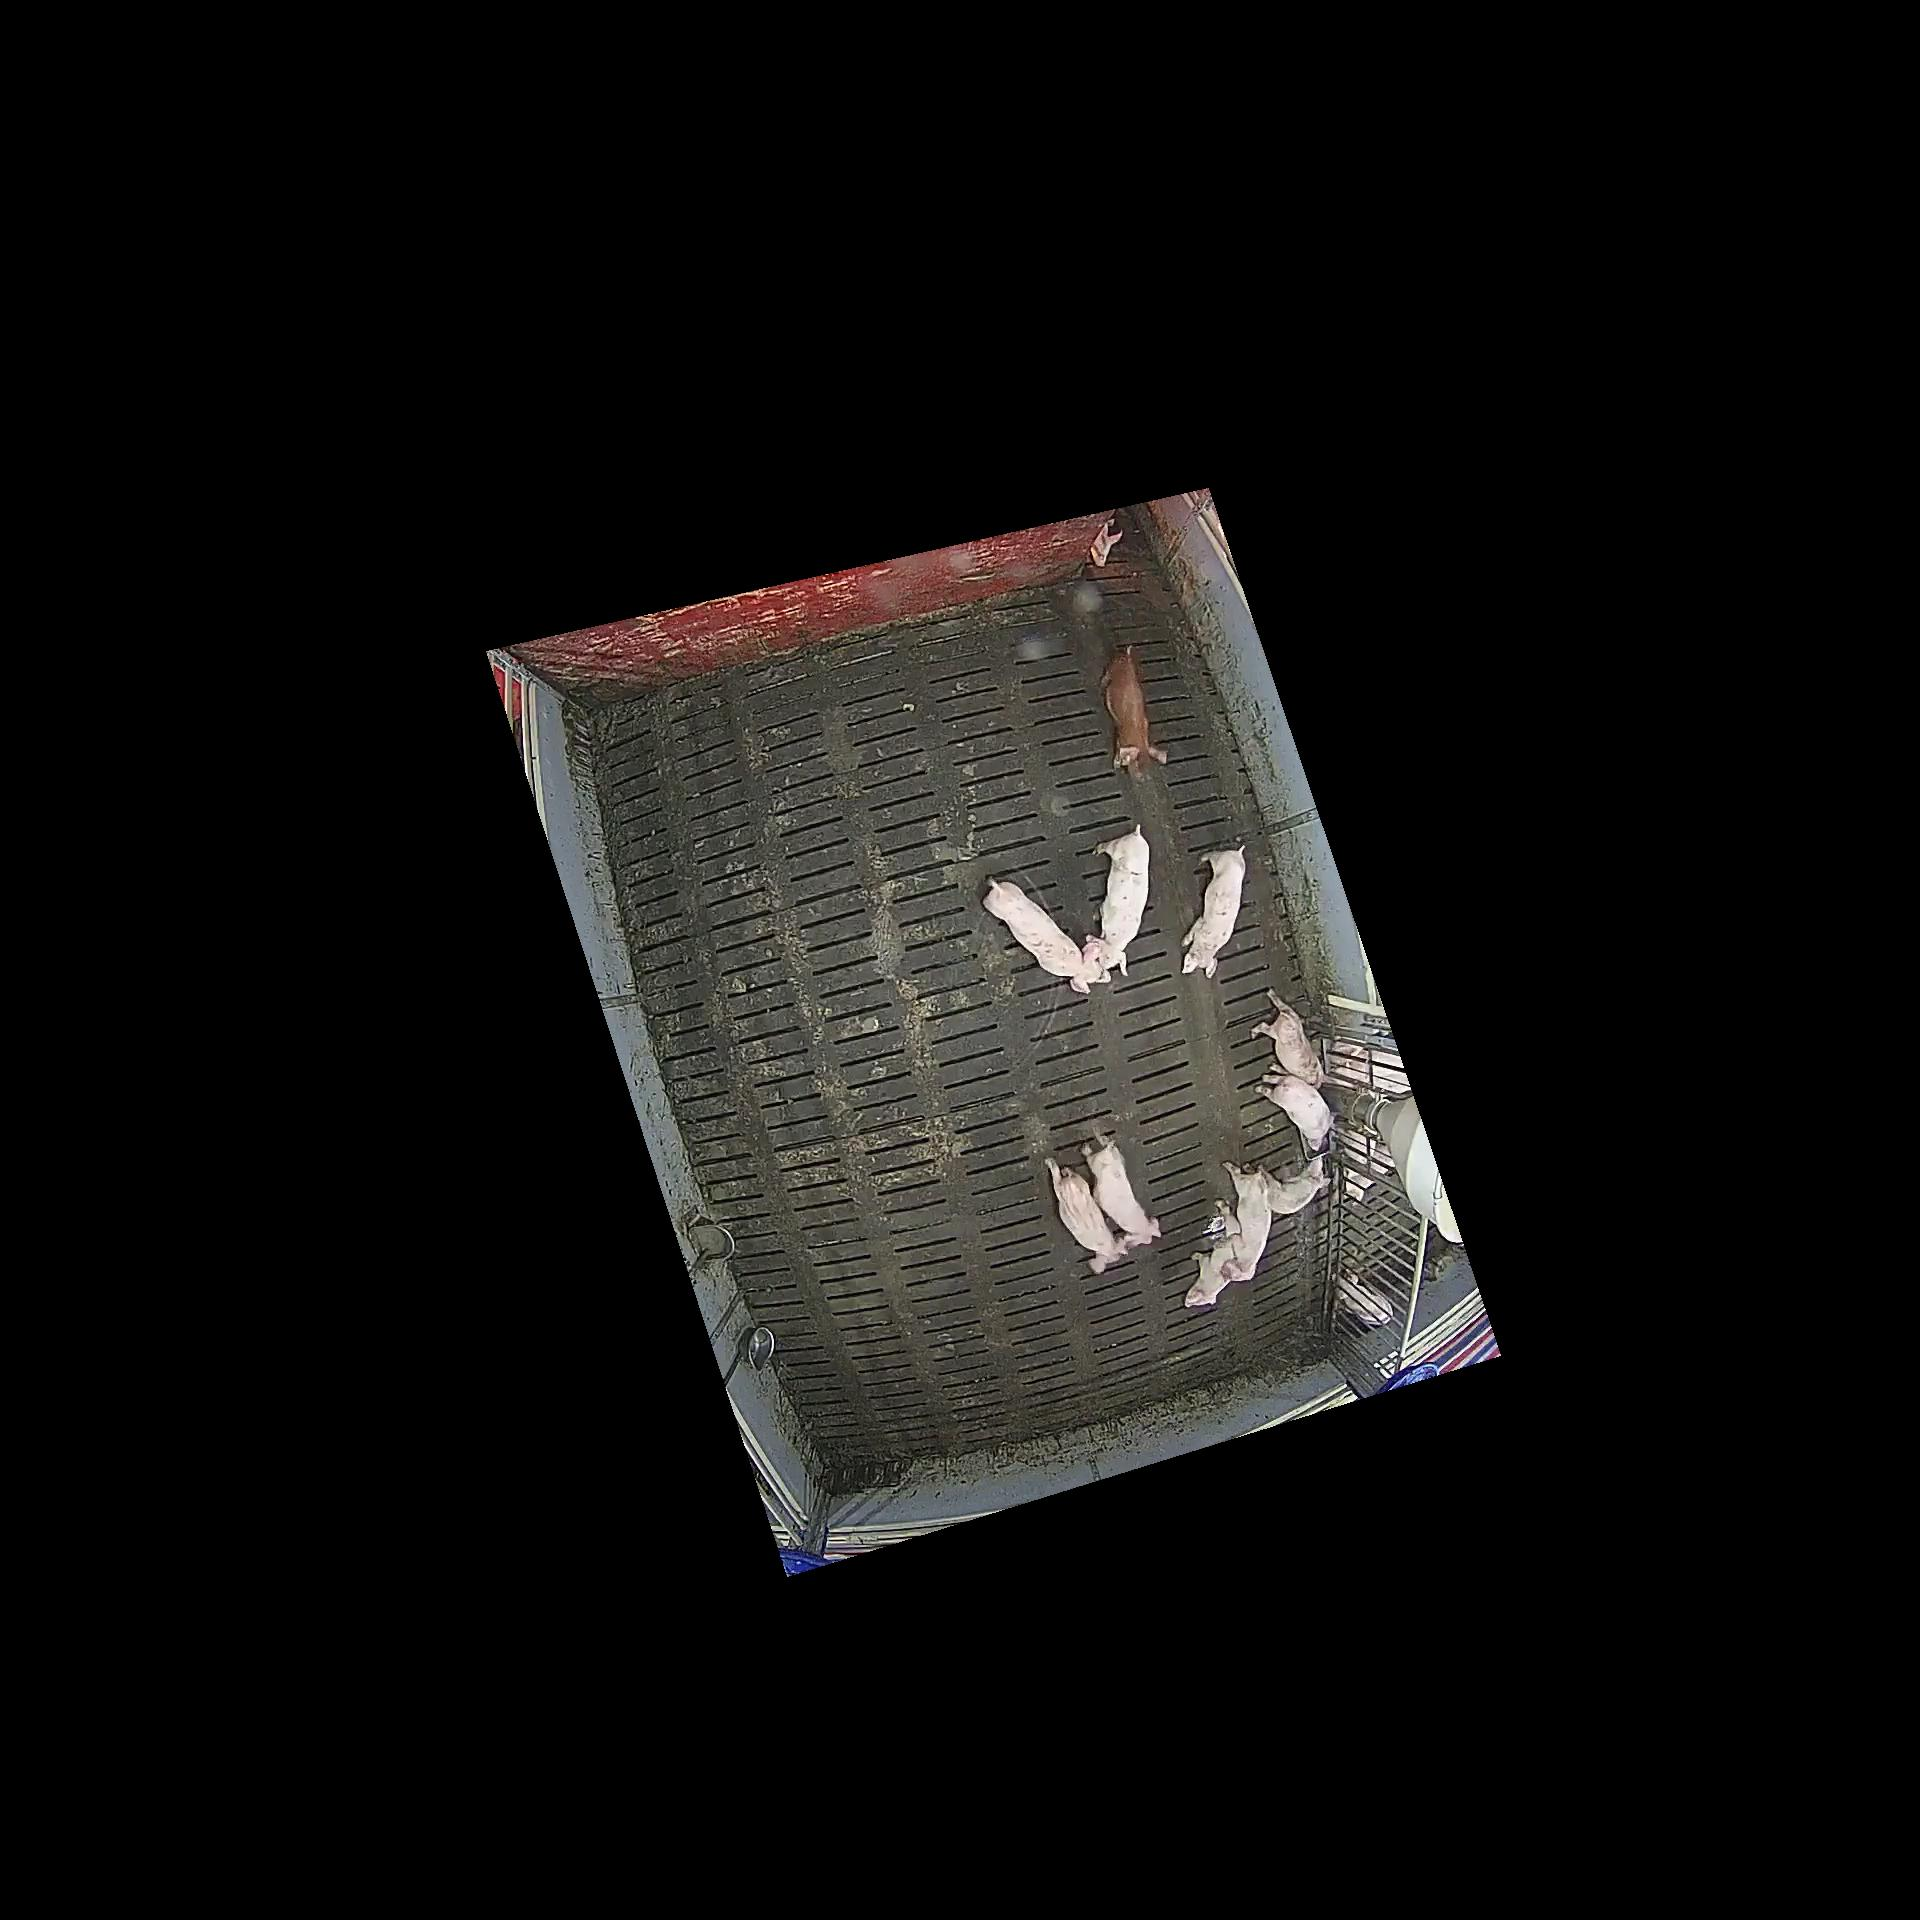pig: (985, 877, 1111, 995), (1044, 1157, 1127, 1275), (1087, 825, 1148, 978), (1101, 645, 1169, 779), (1081, 1136, 1160, 1247), (1182, 846, 1245, 978), (1250, 988, 1327, 1087), (1215, 1162, 1273, 1280), (1257, 1073, 1336, 1150), (1250, 1159, 1329, 1213), (1183, 1248, 1233, 1308)
